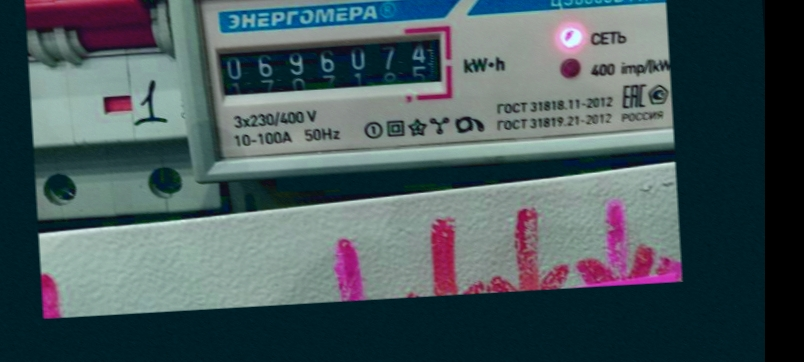0: (222, 53, 242, 79), (348, 43, 366, 70)
4: (409, 39, 426, 63)
5: (410, 63, 426, 81)
6: (254, 49, 275, 77), (316, 47, 335, 72)
7: (377, 42, 397, 69)
9: (284, 49, 305, 75)
screen: (202, 19, 459, 114)
